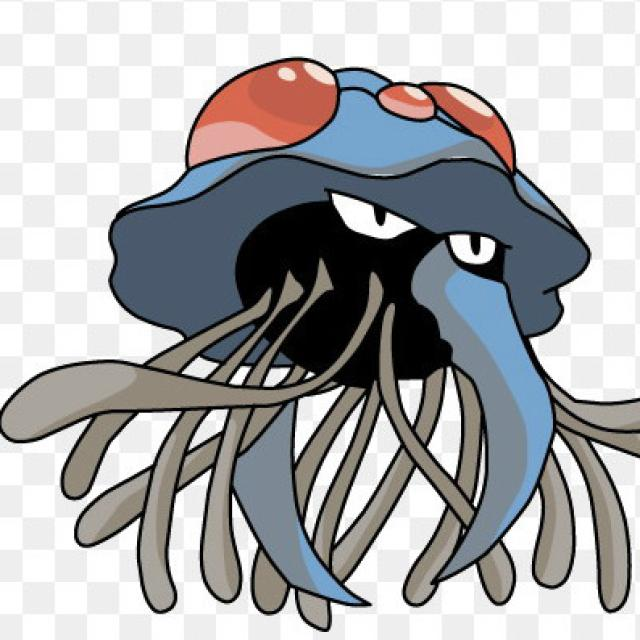Tentacruel: (99, 62, 589, 604)
